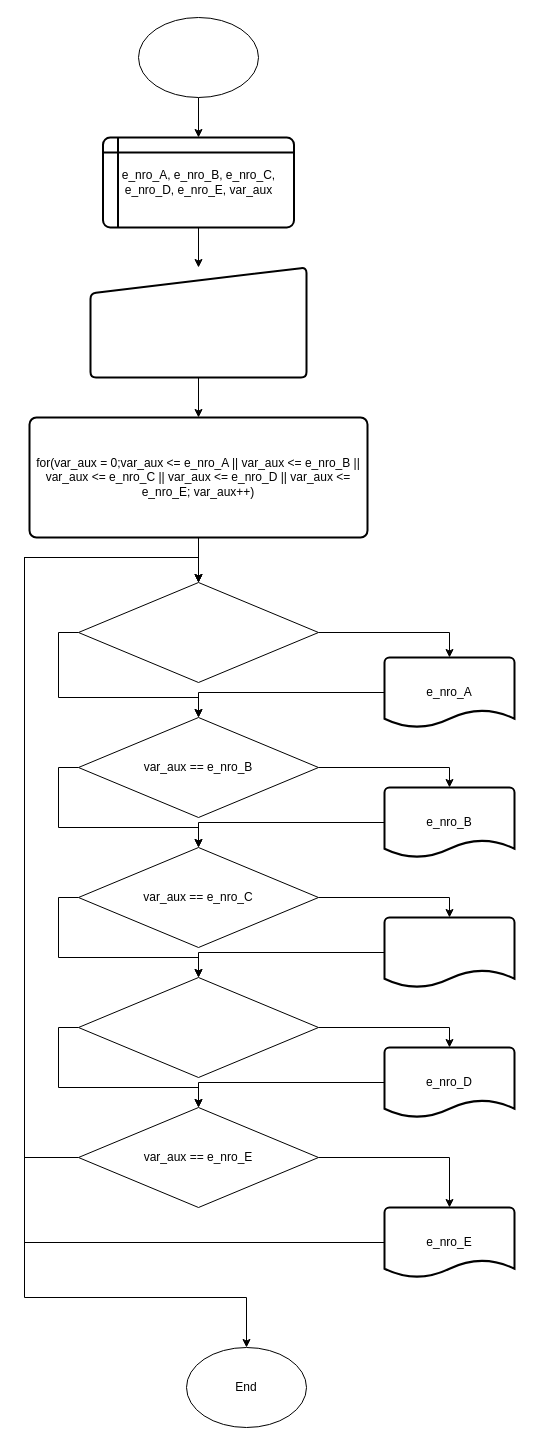
This 533x1445 diagram has some shape labels left out. The box of each missing label's shape, as (x1, y1, x2, y2) in pixels:
e_nro_A, e_nro_B, e_nro_C, e_nro_D, e_nro_E: (89, 266, 307, 378)
e_nro_C: (383, 916, 515, 988)
Start: (138, 16, 258, 98)
var_aux == e_nro_A: (78, 582, 318, 682)
var_aux == e_nro_D: (78, 976, 318, 1078)
